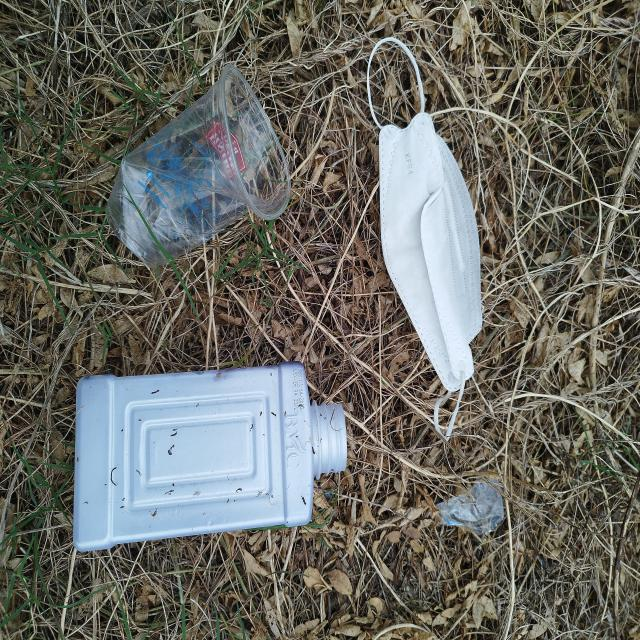bottle: (73, 362, 346, 554)
mask: (368, 39, 482, 441)
plastic glass: (107, 65, 290, 265)
